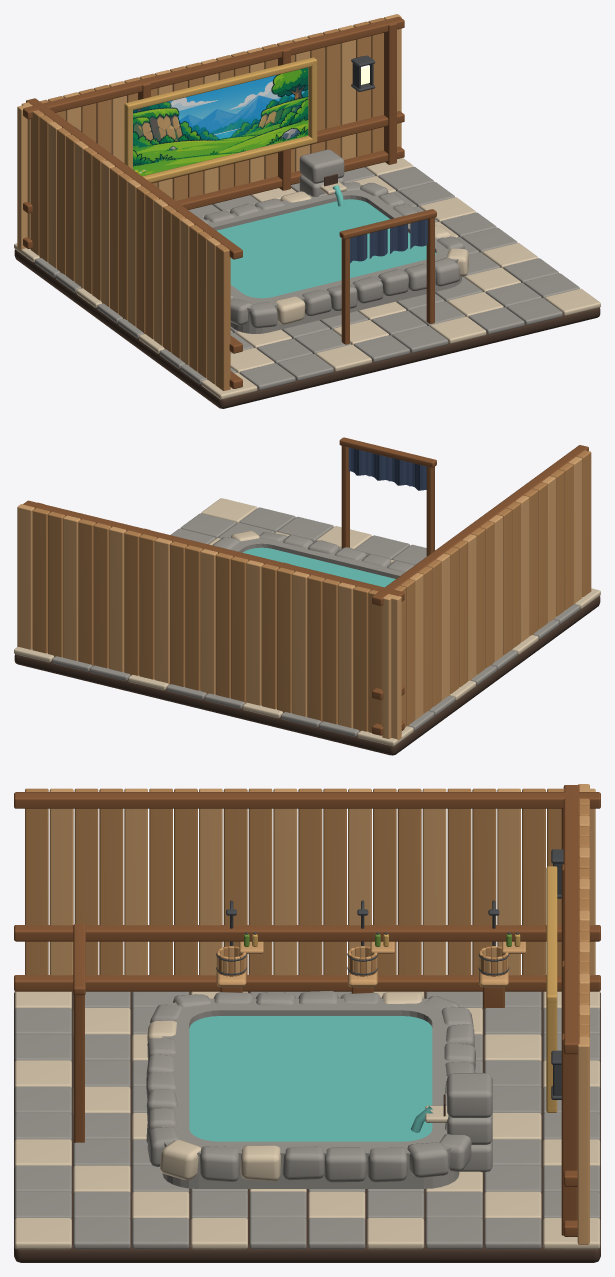
File: bath_interior.glb
3 views of the same model, one above another, from view 1: azimuth 30°, elevation 25°; view 2: azimuth 150°, elevation 25°; view 3: azimuth 270°, elevation 25° (orthographic). The views are drawn at different scales.
Parts seen in each view (by area): view 1: 004 framed landscape, water, bath foundation, continuous hollow stone basin, cedar back horizontal beam.002, vertical cedar side plank.022, cedar side horizontal beam.002, cedar back horizontal beam, picture carved rail.001, bath structural post.003, vertical cedar back plank.021, picture carved rail (+79 smaller); view 2: bath foundation, cedar back horizontal beam.002, vertical cedar back plank.020, vertical cedar back plank.010, vertical cedar back plank.002, vertical cedar back plank.005, vertical cedar back plank.011, vertical cedar back plank.014, vertical cedar back plank.017, vertical cedar back plank.003, vertical cedar back plank.004, vertical cedar back plank.006 (+56 smaller); view 3: water, continuous hollow stone basin, bath foundation, cedar side horizontal beam.002, cedar side horizontal beam.001, cedar side horizontal beam, cedar back horizontal beam.002, vertical cedar side plank.006, vertical cedar side plank.007, vertical cedar side plank.011, vertical cedar side plank.021, vertical cedar side plank.012 (+87 smaller).
Boxes of the visible parts, box(x1,y1,x2,y2) form: 004 framed landscape: box(133, 67, 308, 176); water: box(217, 199, 436, 298); bath foundation: box(14, 249, 600, 408); continuous hollow stone basin: box(206, 185, 461, 333); cedar back horizontal beam.002: box(23, 16, 404, 119); vertical cedar side plank.022: box(215, 244, 230, 390); cedar side horizontal beam.002: box(26, 98, 242, 259); cedar back horizontal beam: box(23, 146, 404, 248); picture carved rail.001: box(124, 58, 317, 110); bath structural post.003: box(384, 23, 396, 164); vertical cedar back plank.021: box(338, 25, 355, 159); picture carved rail: box(142, 136, 317, 182); bath foundation: box(14, 596, 600, 755); cedar back horizontal beam.002: box(23, 500, 404, 601); vertical cedar back plank.020: box(78, 519, 95, 665); vertical cedar back plank.010: box(231, 556, 248, 702); vertical cedar back plank.002: box(353, 586, 370, 731); vertical cedar back plank.005: box(307, 575, 324, 721); vertical cedar back plank.011: box(215, 552, 233, 698); vertical cedar back plank.014: box(170, 541, 187, 686); vertical cedar back plank.017: box(124, 530, 141, 675); vertical cedar back plank.003: box(338, 582, 355, 727); vertical cedar back plank.004: box(322, 578, 340, 724); vertical cedar back plank.006: box(292, 571, 309, 716); water: box(189, 1016, 432, 1141); continuous hollow stone basin: box(162, 998, 459, 1188); bath foundation: box(14, 991, 600, 1262); cedar side horizontal beam.002: box(14, 792, 600, 808); cedar side horizontal beam.001: box(14, 925, 600, 941); cedar side horizontal beam: box(14, 975, 600, 991); cedar back horizontal beam.002: box(563, 785, 579, 1054); vertical cedar side plank.006: box(422, 788, 446, 992); vertical cedar side plank.007: box(397, 788, 421, 975); vertical cedar side plank.011: box(298, 788, 322, 975); vertical cedar side plank.021: box(49, 788, 73, 992); vertical cedar side plank.012: box(273, 788, 297, 975).
Size of the model in its own units: 9 by 3.52 by 8.5.
Materials: 13 (1 with a texture image).
